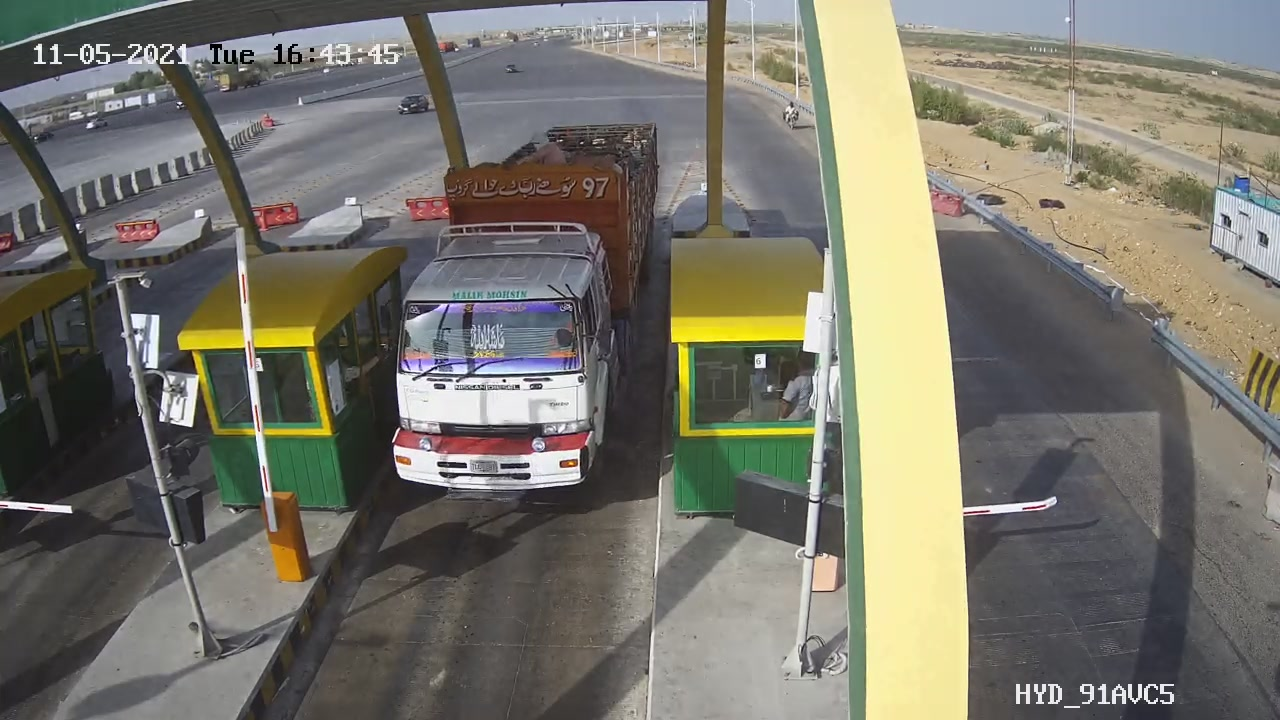F6: (363, 106, 683, 527)
